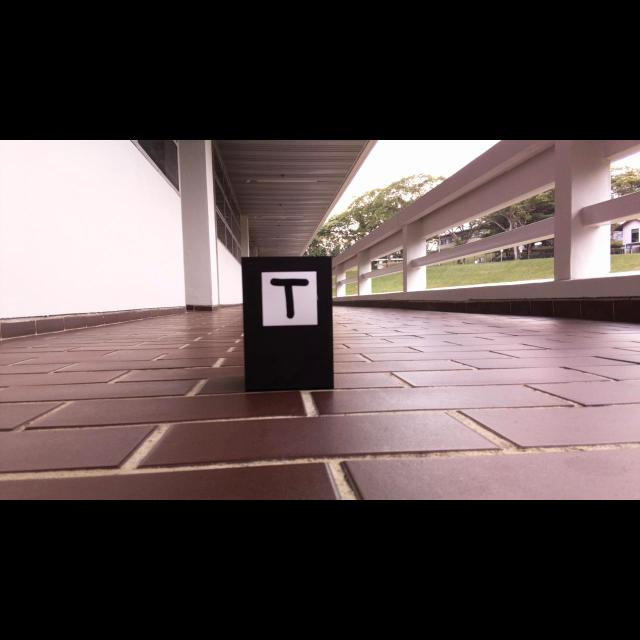T: (270, 278, 309, 318)
